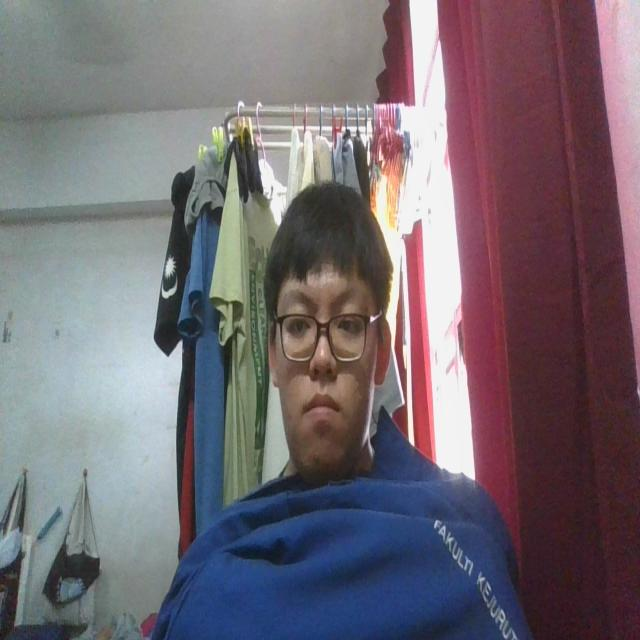person_without_labcoat: (154, 184, 532, 639)
